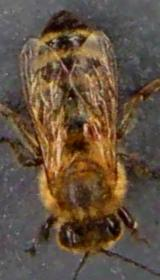varroa_mite: (78, 117, 109, 140)
